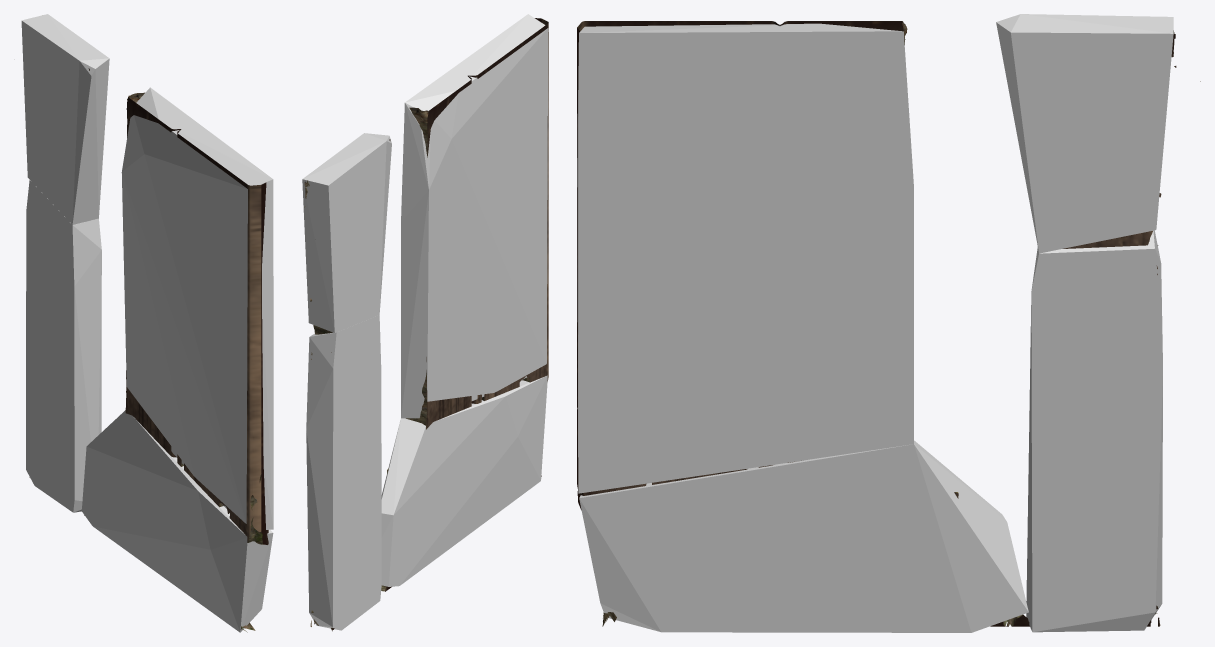
Rendered from SM_Wood_07.fbx.
3 views of the same model, side by side, from view 1: azimuth 30°, elevation 25°; view 2: azimuth 150°, elevation 25°; view 3: azimuth 270°, elevation 25° (orthographic). The views are drawn at different scales.
Parts seen in each view (by area): view 1: SM_Wood_07_ConvexHulls, SM_Wood_07_LOD0; view 2: SM_Wood_07_ConvexHulls, SM_Wood_07_LOD0; view 3: SM_Wood_07_ConvexHulls, SM_Wood_07_LOD0.
Boxes of the visible parts, x1,y1,x2,y2 form: SM_Wood_07_ConvexHulls: (21,14,273,632); SM_Wood_07_LOD0: (29,68,268,632); SM_Wood_07_ConvexHulls: (302,14,548,630); SM_Wood_07_LOD0: (304,18,548,631); SM_Wood_07_ConvexHulls: (577,14,1173,632); SM_Wood_07_LOD0: (577,21,1200,626).
Bounding box in the file's own units: 13.36 × 205 × 219.
